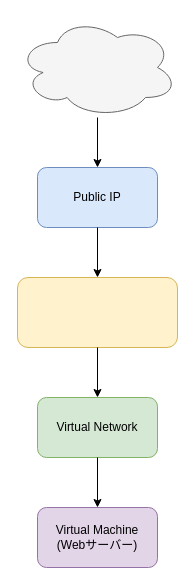
The diagram is 195 pixels wide and 585 high, and some of its shapes have lost their labels. The centre of each missing label's shape, as x and y in pixels:
"Network Security Group (ポート80/443のみ許可)" goes at (x=97, y=312).
"インターネット" goes at (x=97, y=67).
